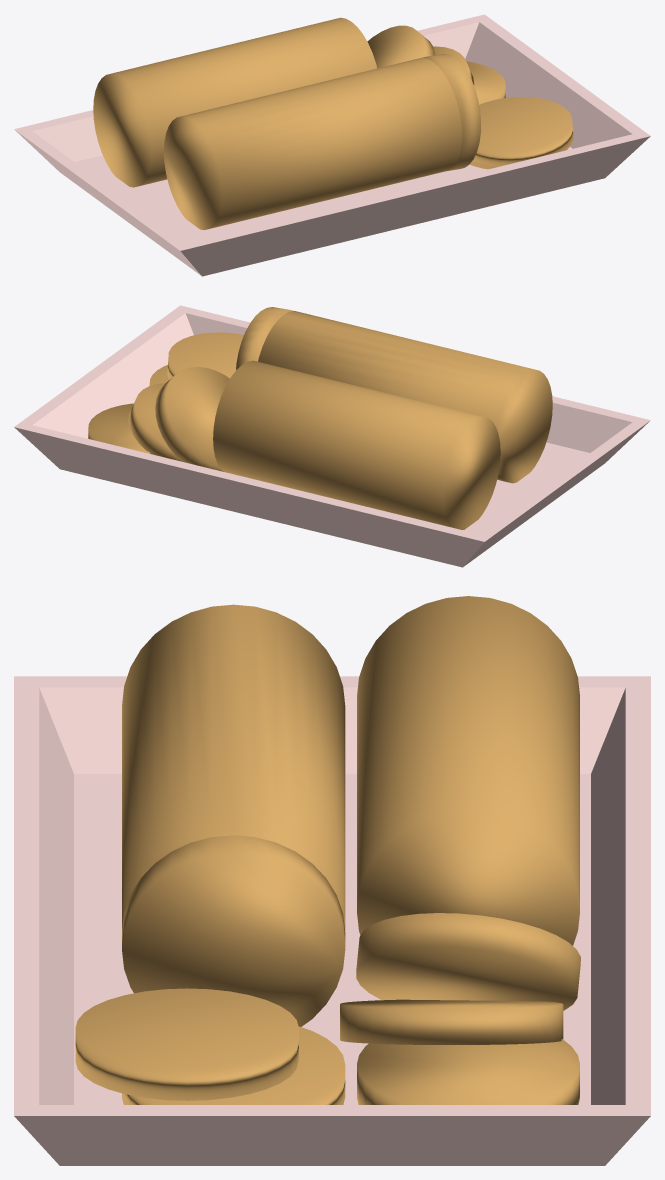
File: sugarplate3.fbx
3 renders of one model, top to bottom at view 1: azimuth 30°, elevation 25°; view 2: azimuth 150°, elevation 25°; view 3: azimuth 270°, elevation 25°, orthographic. The views are drawn at different scales.
Visible parts, largest first — view 1: Cylinder.011, Cube.001, Cylinder.014; view 2: Cylinder.014, Cube.001, Cylinder.011; view 3: Cube.001, Cylinder.011, Cylinder.014.
Boxes of the visible parts, x1,y1,x2,y2 form: Cylinder.011: (164,53,573,229); Cube.001: (14,14,650,276); Cylinder.014: (93,17,505,187); Cylinder.014: (88,360,500,529); Cube.001: (14,305,650,567); Cylinder.011: (149,307,552,483); Cube.001: (14,676,650,1165); Cylinder.011: (75,604,345,1104); Cylinder.014: (340,596,580,1104).
Bounding box in the file's own units: 249 × 57.59 × 152.
